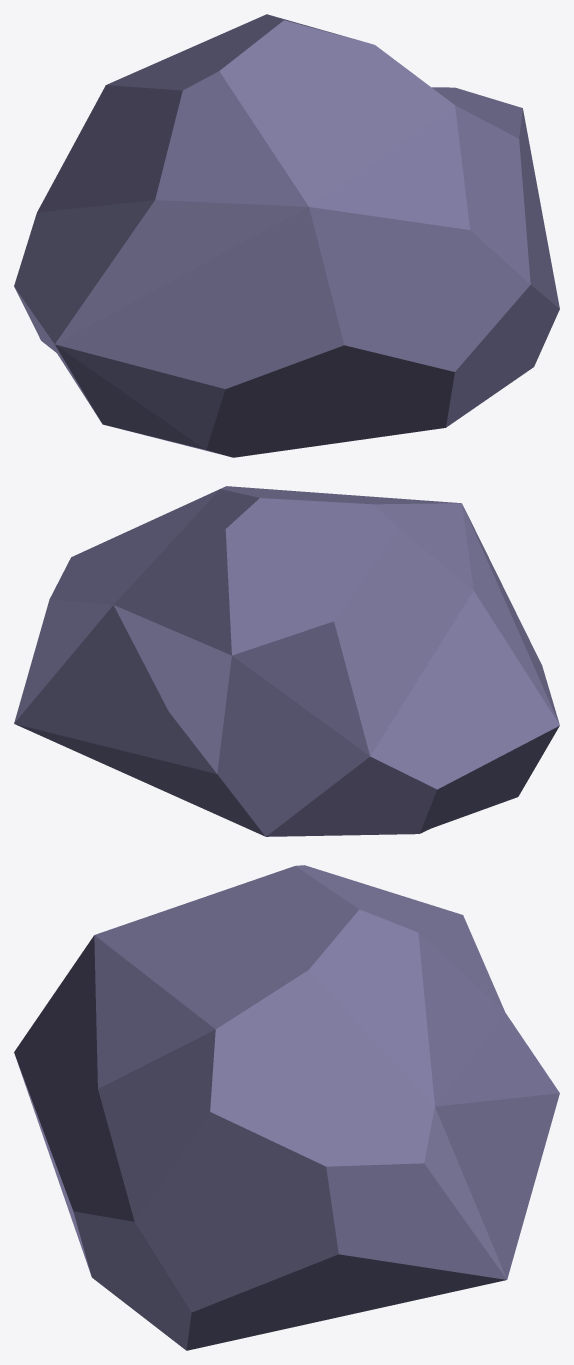
The model's file is Rock_small_v1.glb.
3 renders of one model, top to bottom at view 1: azimuth 30°, elevation 25°; view 2: azimuth 150°, elevation 25°; view 3: azimuth 270°, elevation 25°, orthographic. The views are drawn at different scales.
Visible parts, largest first — view 1: Rock-col.004; view 2: Rock-col.004; view 3: Rock-col.004.
Part boxes in pixels (<box>): Rock-col.004: <box>14,14,559,457</box>; Rock-col.004: <box>14,486,559,836</box>; Rock-col.004: <box>14,865,559,1350</box>.
Size of the model in its own units: 1.96 by 1.24 by 1.69.
